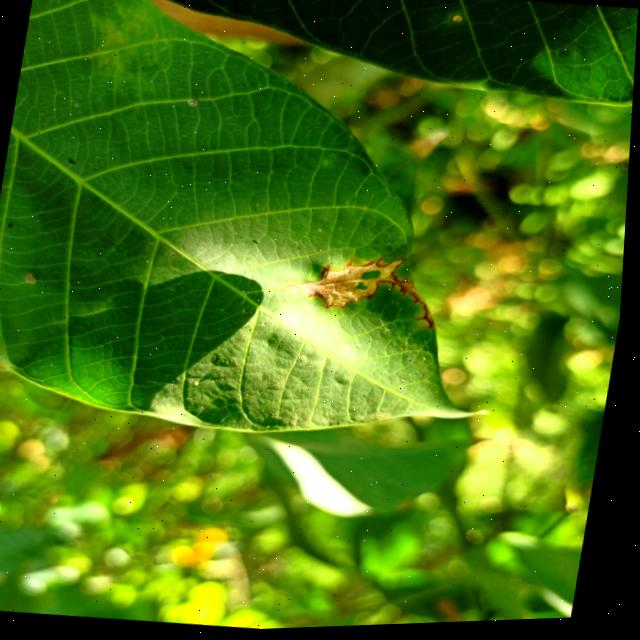Corynespora: (289, 247, 449, 337)
